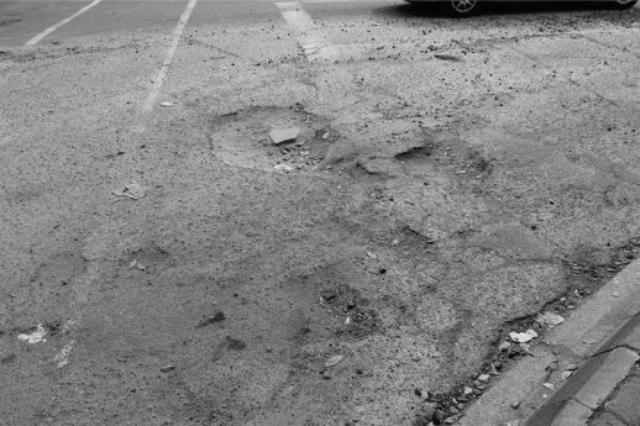Pothole: (80, 229, 472, 395), (188, 97, 538, 209), (0, 48, 54, 82)
